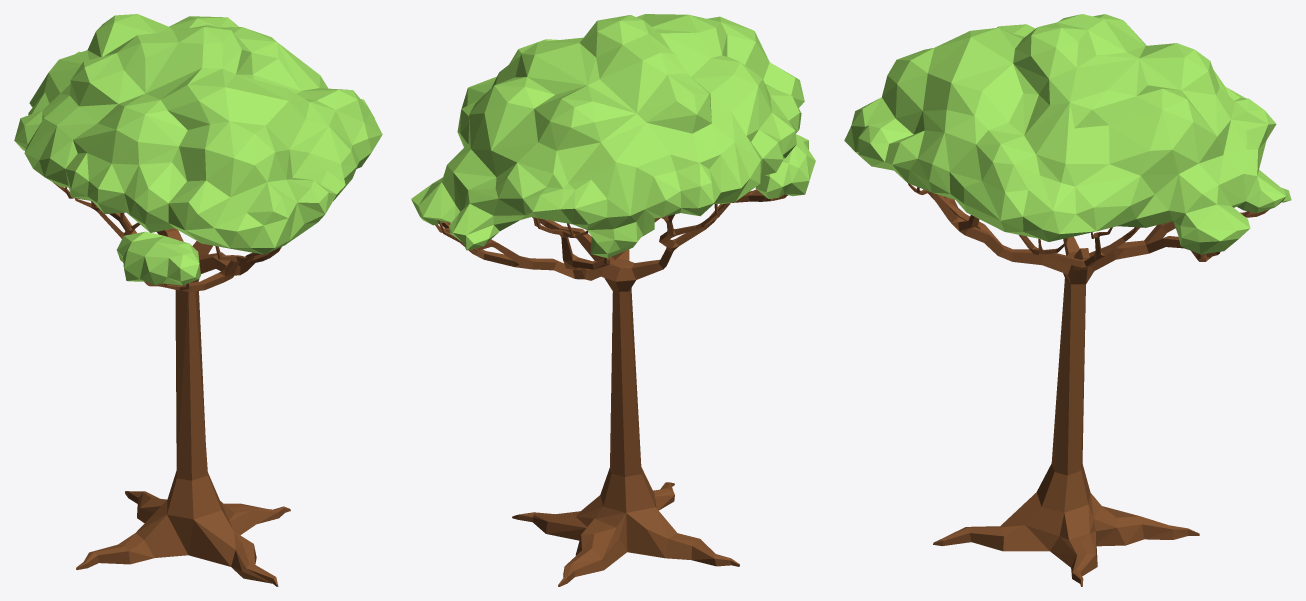
File: tree1.fbx
The picture shows the model from 3 angles, left to right: view 1: azimuth 30°, elevation 25°; view 2: azimuth 150°, elevation 25°; view 3: azimuth 270°, elevation 25°; orthographic projection.
Visible parts, largest first — view 1: Tree_Oak_1; view 2: Tree_Oak_1; view 3: Tree_Oak_1.
Boxes of the visible parts, bbox=[...] form: Tree_Oak_1: bbox=[14, 14, 382, 586]; Tree_Oak_1: bbox=[411, 14, 815, 586]; Tree_Oak_1: bbox=[844, 14, 1291, 586].
Size of the model in its own units: 505 by 795 by 629.
